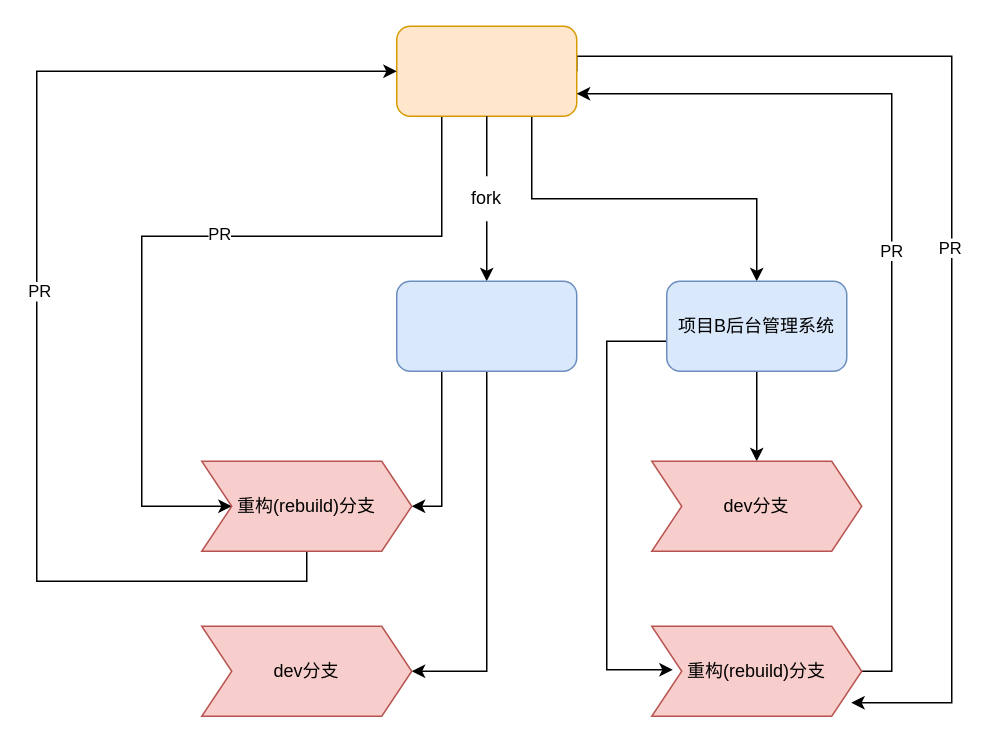
Some shapes in this 990 by 743 pixel diagram are drawn without their labels. Here are the shapes that lost their labels. From the top down, the centre of each, then its label:
At point (486, 70): "ry基础版本".
At point (486, 325): "项目A后台管理系统".
